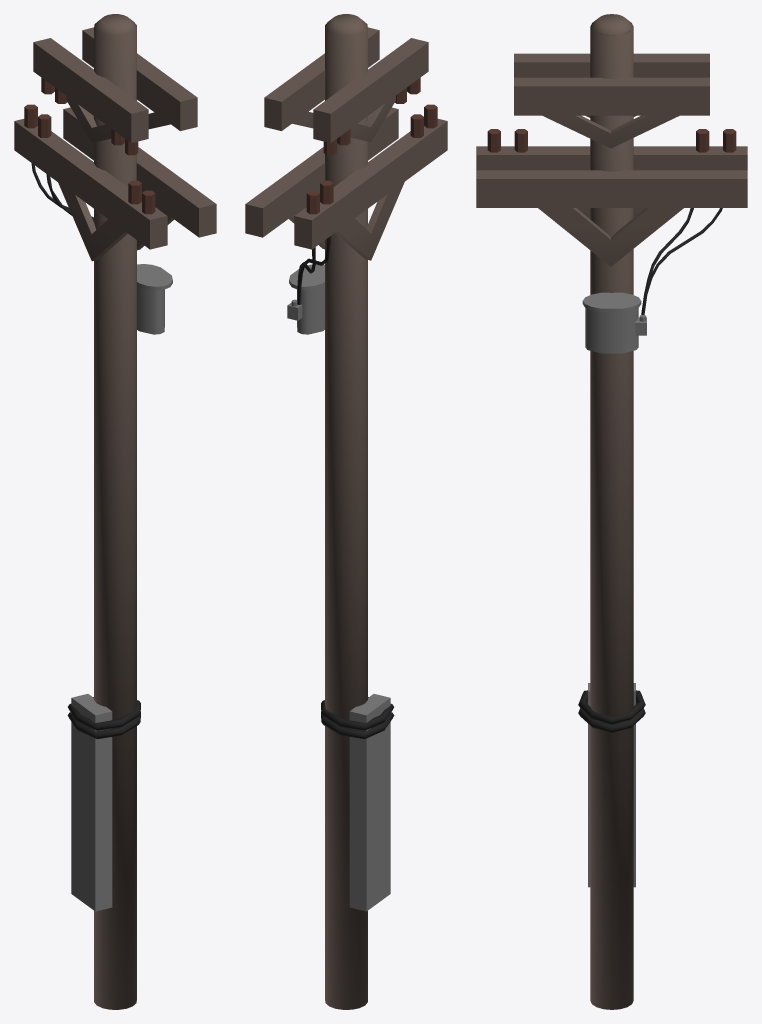
Rendered from pole_unbroken.glb.
3 renders of one model, left to right at view 1: azimuth 30°, elevation 25°; view 2: azimuth 150°, elevation 25°; view 3: azimuth 270°, elevation 25°, orthographic.
Parts seen in each view (by area): view 1: Cylinder, Cube, Cube.001, Cube.002, Cylinder.003, NurbsCircle, Cylinder.001, Cylinder.004; view 2: Cylinder, Cube, Cube.001, Cube.002, Cylinder.003, NurbsCircle, Cylinder.001, Cylinder.004; view 3: Cylinder, Cube, Cube.001, Cylinder.003, NurbsCircle, Cylinder.001, Cube.002.
Boxes of the visible parts, x1=… form: Cylinder: x1=94, y1=14, x2=136, y2=1009; Cube: x1=14, y1=107, x2=216, y2=261; Cube.001: x1=33, y1=27, x2=197, y2=142; Cube.002: x1=71, y1=694, x2=112, y2=911; Cylinder.003: x1=137, y1=264, x2=172, y2=334; NurbsCircle: x1=67, y1=697, x2=140, y2=739; Cylinder.001: x1=24, y1=104, x2=155, y2=214; Cylinder.004: x1=41, y1=77, x2=138, y2=155; Cylinder: x1=325, y1=14, x2=367, y2=1009; Cube: x1=245, y1=107, x2=447, y2=260; Cube.001: x1=264, y1=27, x2=428, y2=142; Cube.002: x1=349, y1=694, x2=390, y2=911; Cylinder.003: x1=287, y1=264, x2=324, y2=334; NurbsCircle: x1=321, y1=697, x2=394, y2=739; Cylinder.001: x1=306, y1=104, x2=437, y2=214; Cylinder.004: x1=323, y1=77, x2=420, y2=155; Cylinder: x1=590, y1=14, x2=633, y2=1009; Cube: x1=476, y1=146, x2=747, y2=266; Cube.001: x1=514, y1=53, x2=709, y2=148; Cylinder.003: x1=582, y1=292, x2=646, y2=353; NurbsCircle: x1=578, y1=690, x2=645, y2=732; Cylinder.001: x1=487, y1=129, x2=736, y2=152; Cube.002: x1=588, y1=683, x2=635, y2=887.
Size of the model in its own units: 0.9654 by 10 by 2.51.
Materials: 4 (1 with a texture image).
